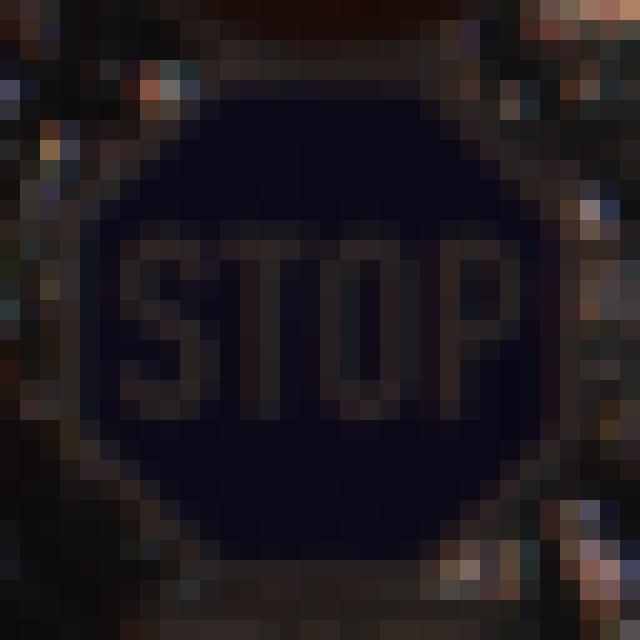STOP: (54, 54, 585, 593)
